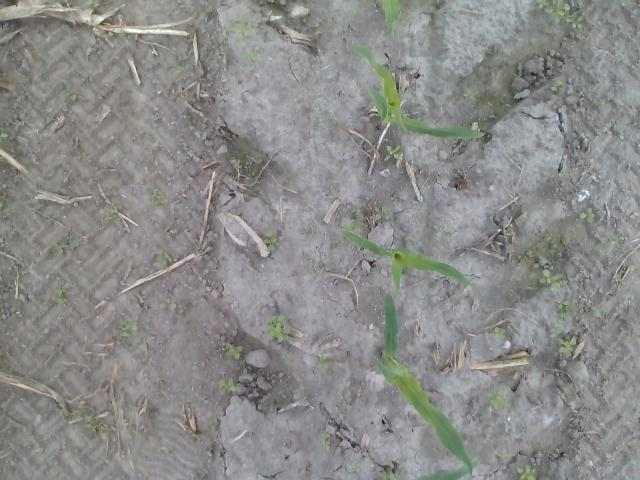Maize: (370, 292, 476, 478), (356, 43, 484, 143), (342, 229, 474, 292), (410, 456, 480, 480), (382, 0, 402, 32)
Weeds: (535, 0, 584, 29), (46, 234, 79, 258), (267, 312, 288, 342), (552, 330, 576, 354), (376, 457, 399, 480), (538, 267, 562, 289), (345, 207, 368, 229), (488, 388, 511, 408), (558, 297, 578, 319), (118, 318, 140, 337), (216, 376, 242, 392), (263, 232, 279, 257), (84, 414, 107, 431), (230, 18, 256, 32), (224, 342, 243, 361), (578, 206, 598, 224), (51, 286, 71, 304), (317, 354, 334, 375), (487, 326, 505, 344), (516, 464, 536, 480), (432, 222, 448, 241), (240, 48, 260, 63), (383, 144, 401, 160), (122, 417, 134, 441), (549, 78, 564, 94), (152, 192, 168, 206), (319, 431, 332, 448), (462, 87, 482, 98), (374, 206, 392, 218), (496, 449, 512, 462), (63, 406, 83, 416), (159, 297, 176, 308), (158, 246, 169, 262), (592, 306, 608, 317), (495, 94, 506, 107), (280, 350, 288, 365), (0, 131, 9, 143), (110, 206, 119, 218), (350, 462, 360, 472), (232, 158, 241, 168), (600, 246, 608, 256), (612, 272, 620, 282), (559, 168, 568, 176), (611, 234, 617, 244), (478, 98, 484, 107), (256, 223, 262, 228)
